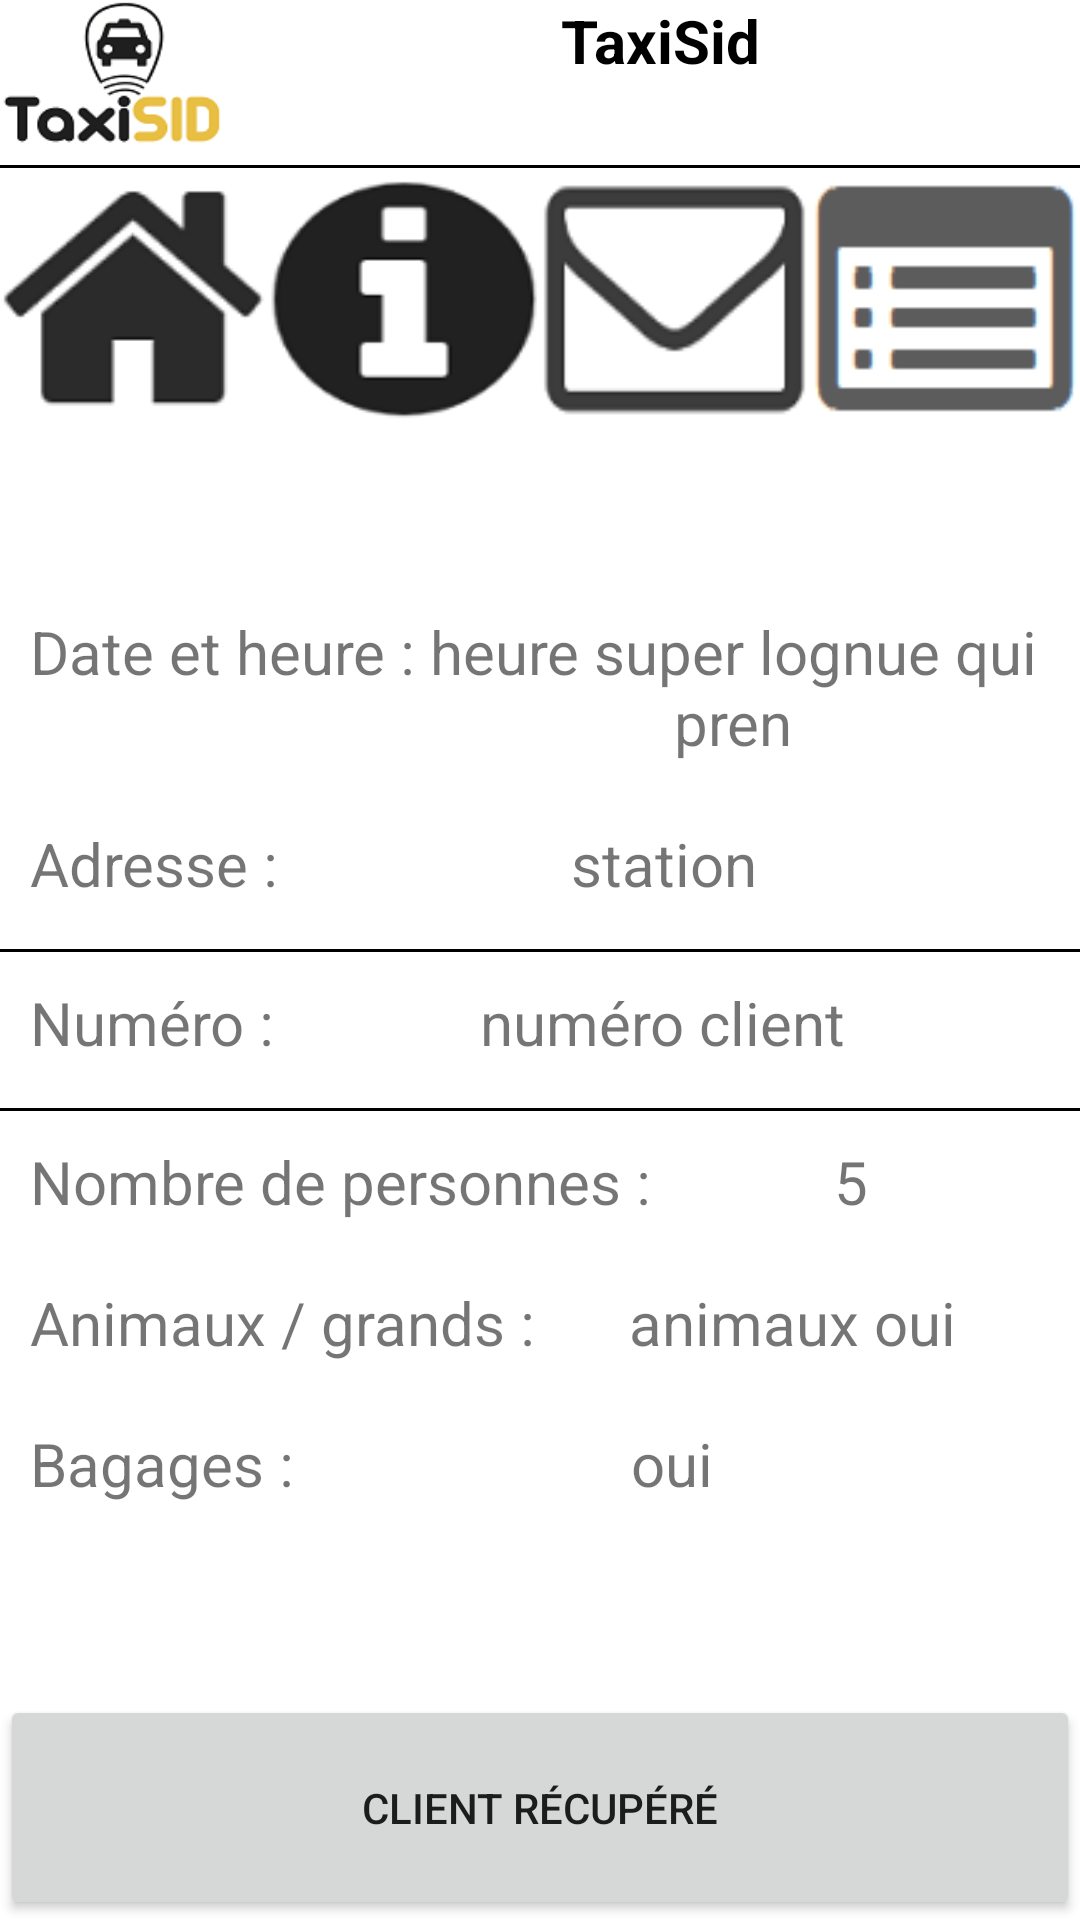

Icon bounding boxes for this 1080px×1920px phone screenshot, format (x1, y1, x2, y2):
enveloppe: (544, 185, 805, 414)
home: (4, 191, 262, 405)
